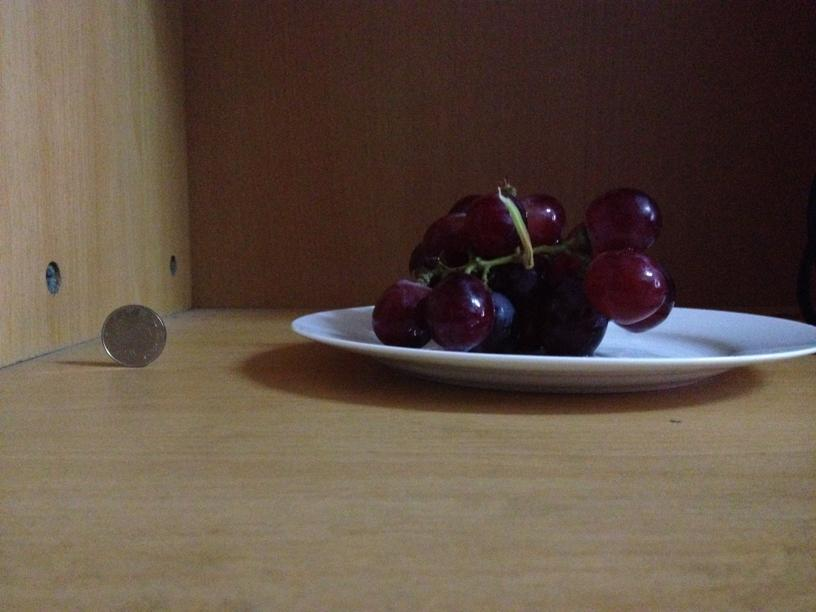coin: (101, 302, 166, 366)
grape: (370, 184, 676, 354)
